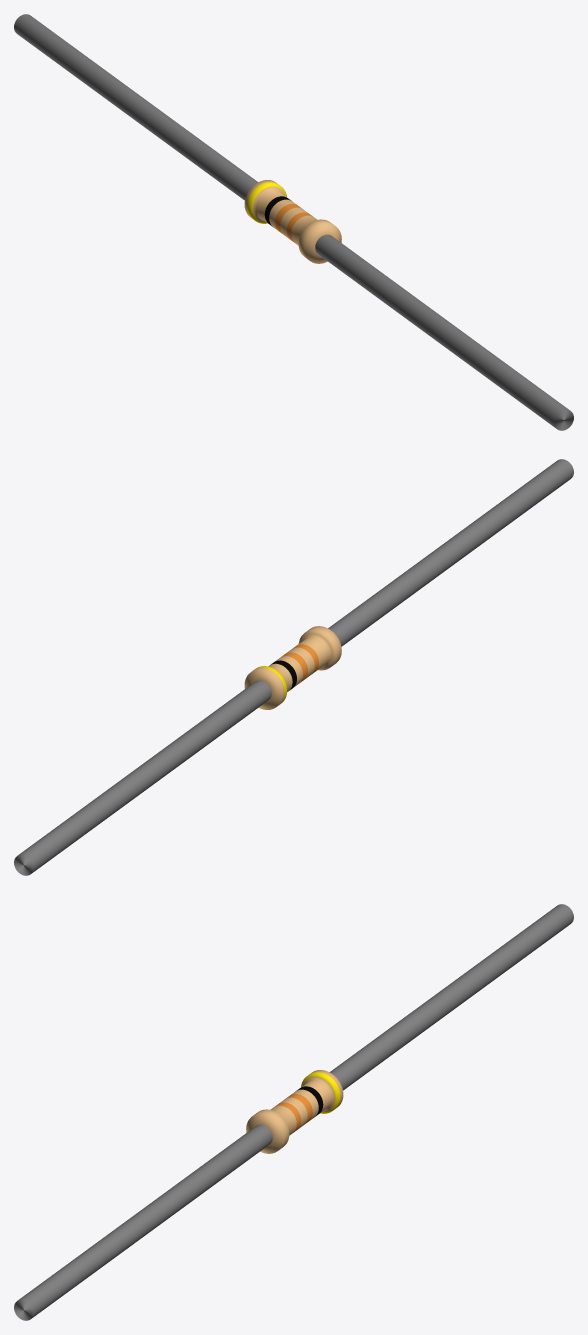
Rendered from resistor_330Ohm.fbx.
3 renders of one model, top to bottom at view 1: azimuth 30°, elevation 25°; view 2: azimuth 150°, elevation 25°; view 3: azimuth 330°, elevation 25°, orthographic.
Visible parts, largest first — view 1: Cylinder.002, Cylinder.003, Cylinder.001; view 2: Cylinder.003, Cylinder.002, Cylinder.001; view 3: Cylinder.002, Cylinder.003, Cylinder.001.
Part boxes in pixels (x1,y1,x2,y2): Cylinder.002: (315, 234, 573, 430); Cylinder.003: (14, 14, 257, 200); Cylinder.001: (244, 180, 341, 263); Cylinder.003: (14, 680, 271, 875); Cylinder.002: (328, 459, 573, 646); Cylinder.001: (244, 626, 341, 709); Cylinder.002: (14, 1124, 272, 1320); Cylinder.003: (330, 904, 573, 1090); Cylinder.001: (246, 1070, 343, 1153).
Size of the model in its own units: 61.35 by 61.35 by 1530.
